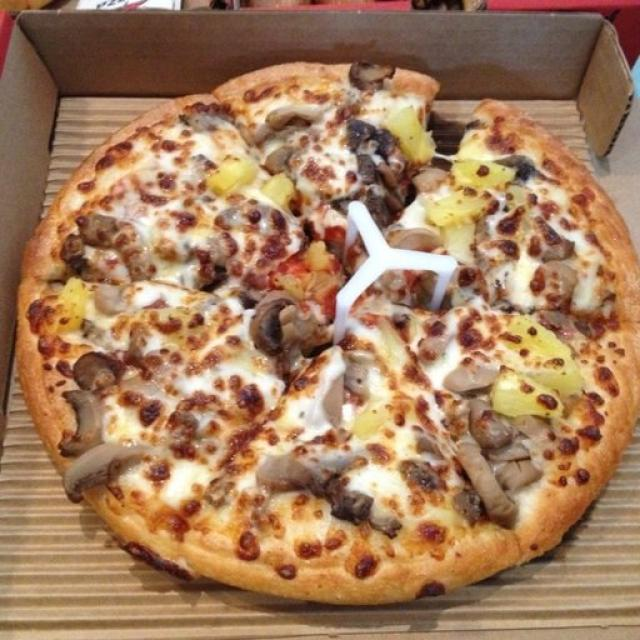Mushrooms: (464, 443, 512, 515), (78, 438, 121, 494), (261, 302, 302, 352), (68, 394, 102, 454), (265, 454, 317, 493), (71, 356, 126, 391), (329, 471, 372, 512), (354, 65, 391, 90), (266, 114, 312, 124)
Pizza: (24, 62, 640, 609)
